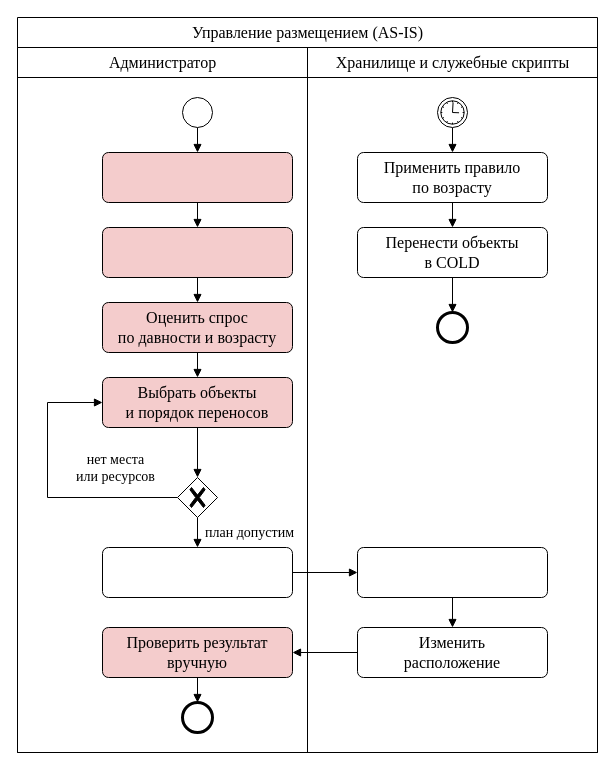
This 615x770 diagram has some shape labels left out. Here are the shapes that lost their labels. From the top down, the centre of each, then its label:
[197,177]: Ожидать предупреждения или проверки
[197,252]: Выгрузить журналы и метрики
[197,572]: Запустить копирование
[452,572]: Скопировать данные
